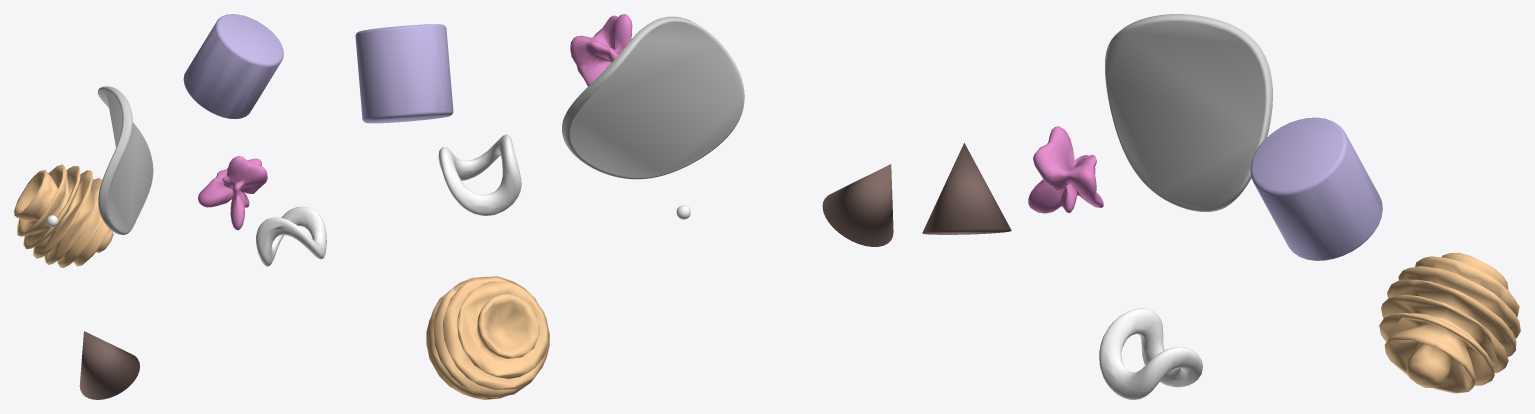
3 views of the same model, side by side, from view 1: azimuth 30°, elevation 25°; view 2: azimuth 150°, elevation 25°; view 3: azimuth 270°, elevation 25° (orthographic). The views are drawn at different scales.
Visible parts, largest first — view 1: Icosphere.001, Cylinder, Cylinder.001, Cone, Icosphere, Torus; view 2: Cylinder.001, Icosphere.001, Cylinder, Cone, Torus, Icosphere; view 3: Cylinder.001, Icosphere.001, Cylinder, Torus, Cone, Icosphere.
Boxes of the visible parts, x1,y1,x2,y2 form: Icosphere.001: (14,164,113,267); Cylinder: (183,14,283,118); Cylinder.001: (97,86,153,234); Cone: (79,331,139,399); Icosphere: (198,156,267,230); Torus: (256,206,326,266); Cylinder.001: (562,16,744,179); Icosphere.001: (426,276,549,399); Cylinder: (355,24,453,123); Cone: (822,164,893,246); Torus: (438,134,521,215); Icosphere: (570,14,632,86); Cylinder.001: (1105,14,1272,211); Icosphere.001: (1379,252,1520,393); Cylinder: (1250,117,1382,260); Torus: (1099,308,1202,399); Cone: (922,143,1011,234); Icosphere: (1028,126,1103,213).
Size of the model in its own units: 6.37 by 4.79 by 7.57.
